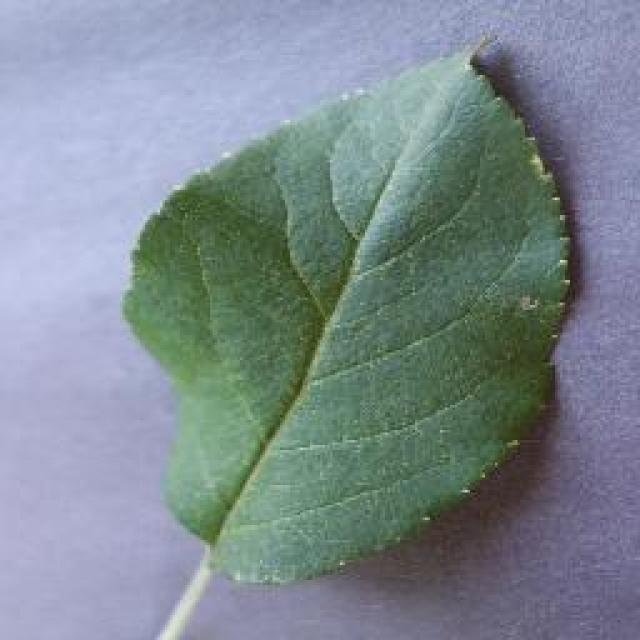apple healthy: (118, 30, 578, 588)
